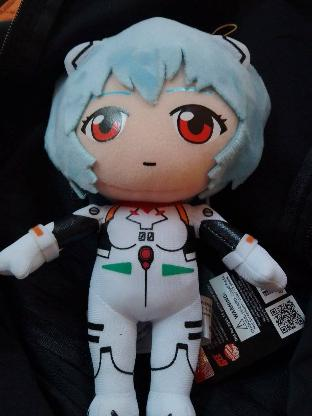rei-plush: (0, 8, 312, 416)
